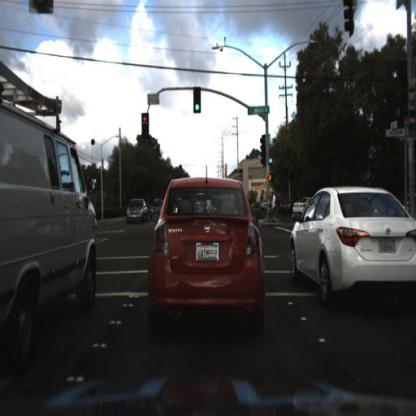biker: (267, 188, 282, 224)
car: (1, 64, 100, 347), (147, 176, 271, 336), (287, 178, 415, 301), (125, 195, 150, 226)
trafficLight: (193, 86, 204, 113), (269, 147, 277, 169)
trafficLight-RedLeft: (142, 111, 150, 140)
truck: (2, 74, 93, 348)
